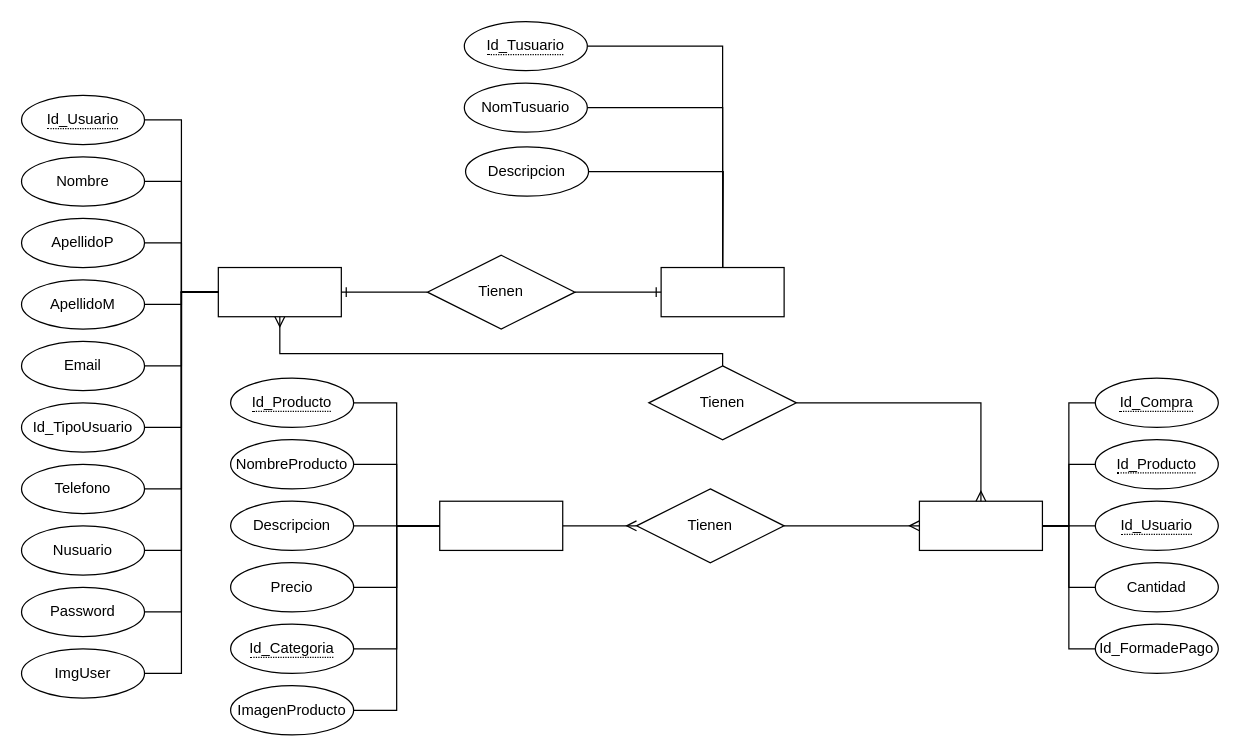
The diagram is 1240 pixels wide and 756 high, and some of its shapes have lost their labels. Here are the shapes that lost their labels. From the top down, the box of each, then its label:
(217, 266, 341, 317): Usuarios
(660, 266, 784, 317): TipoUsuario
(438, 500, 563, 550): Producto
(918, 500, 1042, 550): Compras
